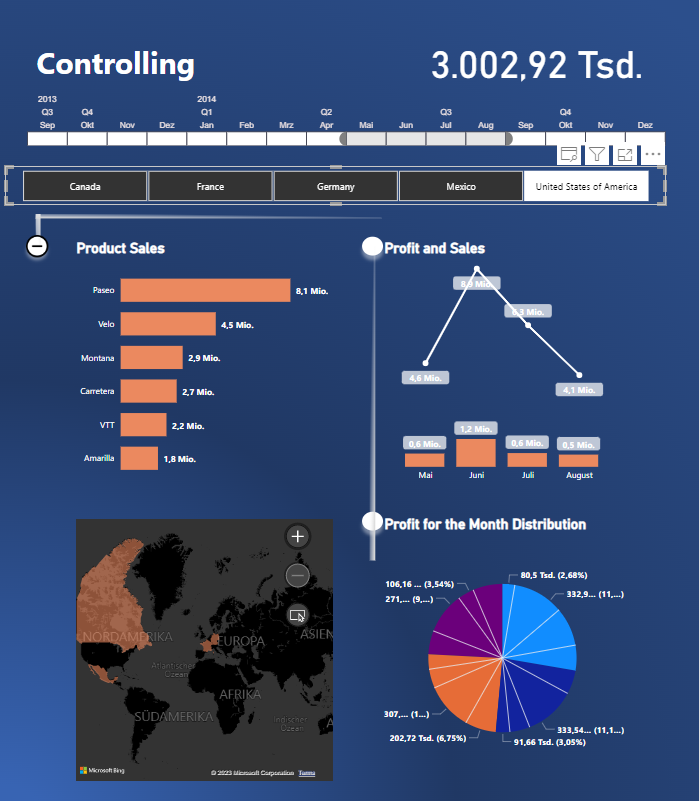

Layout of this report page (visuals, bound fields, positions):
{"tool":"powerbi","page":{"name":"Seite 1","canvas":[1000,1200],"ordinal":0},"visuals":[{"type":"actionButton","title":"Lines","box":[31.2,307.5,525,495],"z":0},{"type":"clusteredBarChart","title":"Product Sales","fields":{"Y":["Sum(financials. Sales)"],"Category":["financials.Product"]},"box":[105.7,344.3,375.7,354.3],"z":1000},{"type":"filledMap","fields":{"Category":["financials.Country"],"Y":["Sum(financials. Sales)"]},"box":[105.7,738.6,375.7,382.9],"z":2000},{"type":"pieChart","title":"Profit for the Month Distribution","fields":{"Category":["financials.Country"],"Series":["financials.Date"],"Y":["Sum(financials.Profit)"]},"box":[545.7,738.6,347.1,382.9],"z":3000},{"type":"Timeline1447991079100","fields":{"Time":["financials.Date"]},"box":[26.3,125,943.4,113.2],"z":4000},{"type":"lineStackedColumnComboChart","title":" Profit and Sales ","fields":{"Y":["Sum(financials.Profit)"],"Category":["financials.Date.Variation.Datumshierarchie.Monat"],"Y2":["Sum(financials.Gross Sales)"]},"box":[545.7,344.3,347.1,354.3],"z":5000},{"type":"slicer","title":"Selection for countries","fields":{"Values":["financials.Country"]},"box":[9.2,238.2,943.4,56.6],"z":6000},{"type":"card","title":"Total profit card","fields":{"Values":["Sum(financials.Profit)"]},"box":[565.8,30.3,403.9,113.2],"z":7000},{"type":"textbox","title":"Title","box":[48.6,55.7,432.9,70],"z":8000},{"type":"actionButton","title":"- minus","box":[38.9,336.7,32.2,32.2],"z":10000}]}

Visuals, with their boxes on the page's 1000x1200 design canvas (x1, y1, x2, y2). These are canvas units, not pixel positions in the 700x801 screenshot, which may show the page scaled, cropped or inside an application window:
"Lines" actionButton: BBox(31, 308, 556, 802)
"Product Sales" clusteredBarChart: BBox(106, 344, 481, 699)
filledMap - financials.Country x Sum(financials. Sales): BBox(106, 739, 481, 1122)
"Profit for the Month Distribution" pieChart: BBox(546, 739, 893, 1122)
Timeline1447991079100 - financials.Date: BBox(26, 125, 970, 238)
" Profit and Sales " lineStackedColumnComboChart: BBox(546, 344, 893, 699)
"Selection for countries" slicer: BBox(9, 238, 953, 295)
"Total profit card" card: BBox(566, 30, 970, 144)
"Title" textbox: BBox(49, 56, 482, 126)
"- minus" actionButton: BBox(39, 337, 71, 369)
